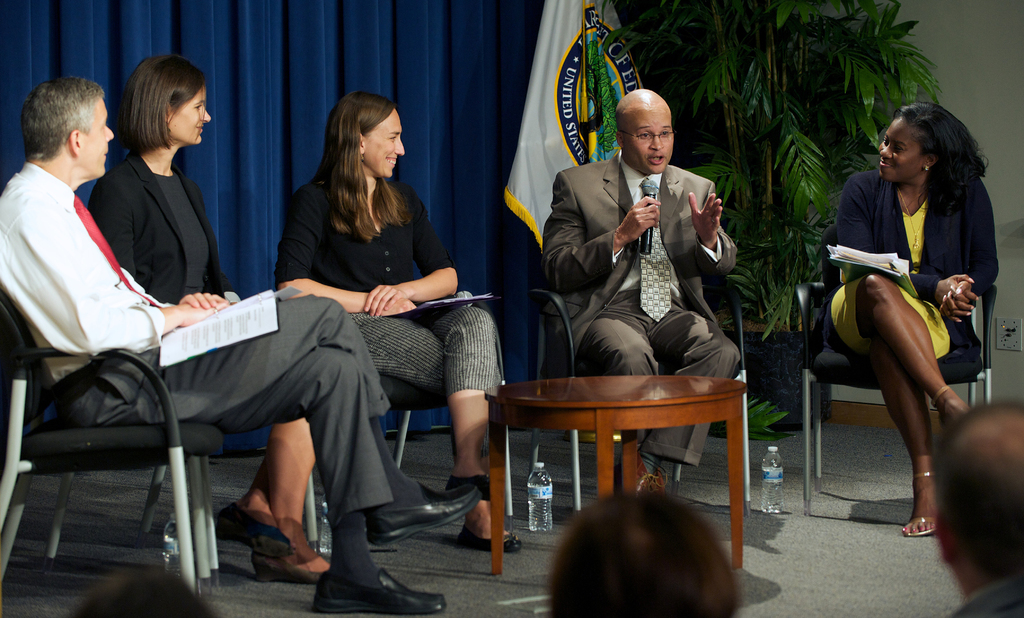Footwear: (368, 481, 481, 545), (311, 574, 445, 617), (233, 527, 301, 590), (605, 455, 663, 496)
